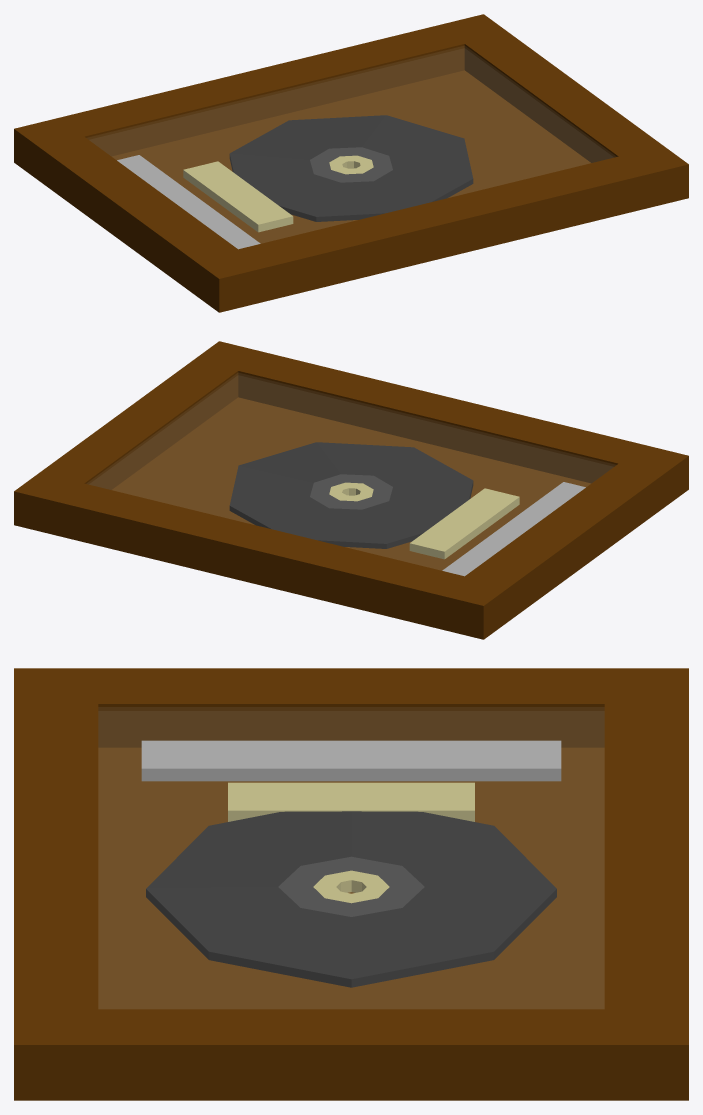
Rendered from Record Frame.fbx.
The picture shows the model from 3 angles, top to bottom: view 1: azimuth 30°, elevation 25°; view 2: azimuth 150°, elevation 25°; view 3: azimuth 270°, elevation 25°; orthographic projection. The views are drawn at different scales.
Parts seen in each view (by area): view 1: Record Frame, Glass, Record; view 2: Record Frame, Glass, Record; view 3: Record Frame, Glass, Record.
Part boxes in pixels (x1,y1,x2,y2): Record Frame: [14, 14, 688, 312]; Glass: [90, 49, 612, 248]; Record: [229, 115, 473, 221]; Record Frame: [14, 341, 688, 639]; Glass: [90, 376, 612, 575]; Record: [229, 442, 473, 548]; Record Frame: [14, 668, 688, 1100]; Glass: [99, 711, 603, 1008]; Record: [146, 811, 556, 987].
Bounding box in the file's own units: 905 × 62.28 × 685.
